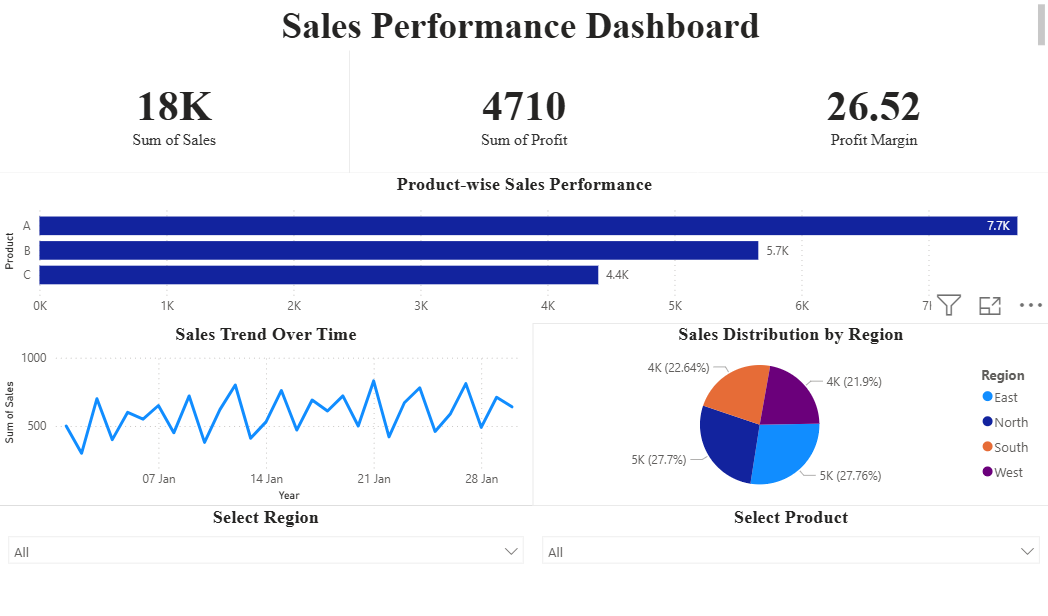

The dashboard page shown, as its layout file describes it:
{"tool":"powerbi","page":{"name":"Page 1","canvas":[1280,720],"ordinal":0},"visuals":[{"type":"card","title":"Total Sales","fields":{"Values":["Sum(Sheet1.Sales)"]},"box":[92,100,354,124],"z":0},{"type":"card","fields":{"Values":["Sum(Sheet1.Profit)"]},"box":[446,100,352,124],"z":1000},{"type":"lineChart","title":"Sales Trend Over Time","fields":{"Y":["Sum(Sheet1.Sales)"],"Category":["Sheet1.Date.Variation.Date Hierarchy.Year","Sheet1.Date.Variation.Date Hierarchy.Quarter","Sheet1.Date.Variation.Date Hierarchy.Month","Sheet1.Date.Variation.Date Hierarchy.Day"]},"box":[92,376,540,184],"z":2000},{"type":"clusteredBarChart","title":"Product-wise Sales Performance","fields":{"Y":["Sum(Sheet1.Sales)"],"Category":["Sheet1.Product"]},"box":[92,224,1062,152],"z":3000},{"type":"pieChart","title":"Sales Distribution by Region","fields":{"Category":["Sheet1.Region"],"Y":["Sum(Sheet1.Sales)"]},"box":[632,376,522,184],"z":4000},{"type":"slicer","title":"Select Product","fields":{"Values":["Sheet1.Region"]},"box":[632,560,522,112],"z":5000},{"type":"slicer","title":"Select Region","fields":{"Values":["Sheet1.Product"]},"box":[92,560,540,112],"z":6000},{"type":"textbox","box":[92,48,1062,52],"z":7000},{"type":"card","fields":{"Values":["Sheet1.Profit Margin"]},"box":[798,100,356,124],"z":7001}]}

Visuals, with their boxes on the page's 1280x720 design canvas (x1, y1, x2, y2). These are canvas units, not pixel positions in the 1048x616 screenshot, which may show the page scaled, cropped or inside an application window:
"Total Sales" card: (x1=92, y1=100, x2=446, y2=224)
card - Sum(Sheet1.Profit): (x1=446, y1=100, x2=798, y2=224)
"Sales Trend Over Time" lineChart: (x1=92, y1=376, x2=632, y2=560)
"Product-wise Sales Performance" clusteredBarChart: (x1=92, y1=224, x2=1154, y2=376)
"Sales Distribution by Region" pieChart: (x1=632, y1=376, x2=1154, y2=560)
"Select Product" slicer: (x1=632, y1=560, x2=1154, y2=672)
"Select Region" slicer: (x1=92, y1=560, x2=632, y2=672)
textbox: (x1=92, y1=48, x2=1154, y2=100)
card - Sheet1.Profit Margin: (x1=798, y1=100, x2=1154, y2=224)
